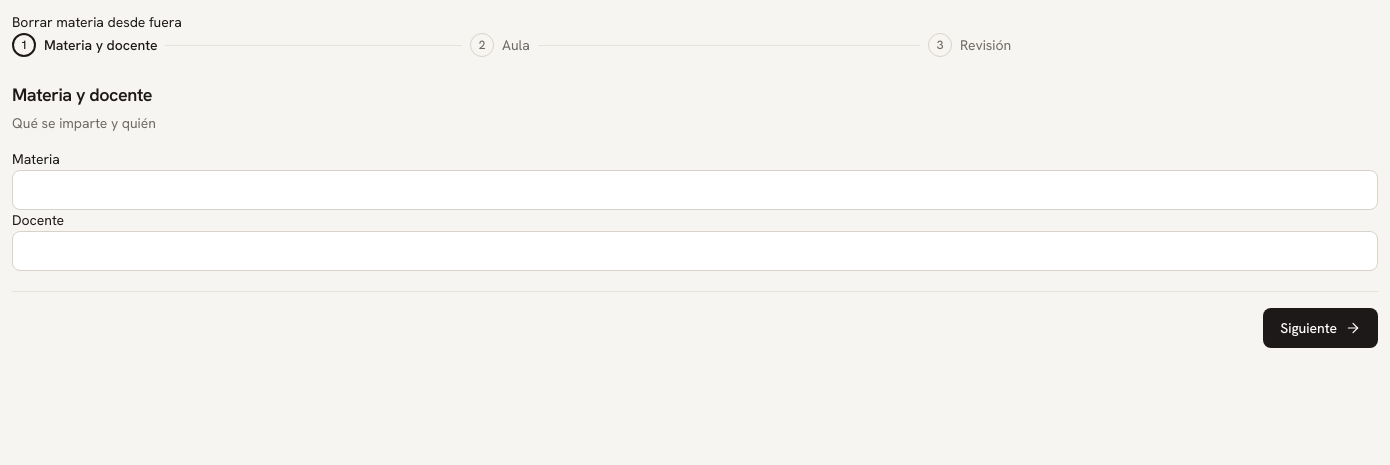
Test: Asistente · revisión y envío › «Volver a la revisión» también valida el paso que se está editando
Type "Álgebra" into the field labelled "Materia". click: coordinates (695, 190)
box: 12,170 -> 1378,210
Type "Ana" into the field labelled "Docente". click: coordinates (695, 251)
box: 12,231 -> 1378,271
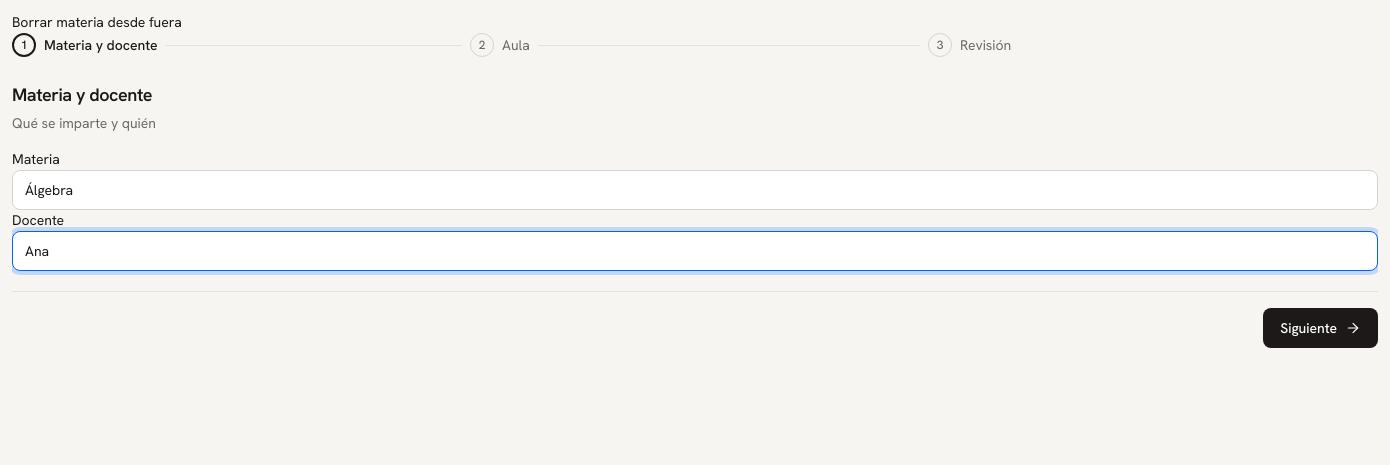
Click the button "Siguiente". click: coordinates (1321, 328)
box: 1263,308 -> 1378,348
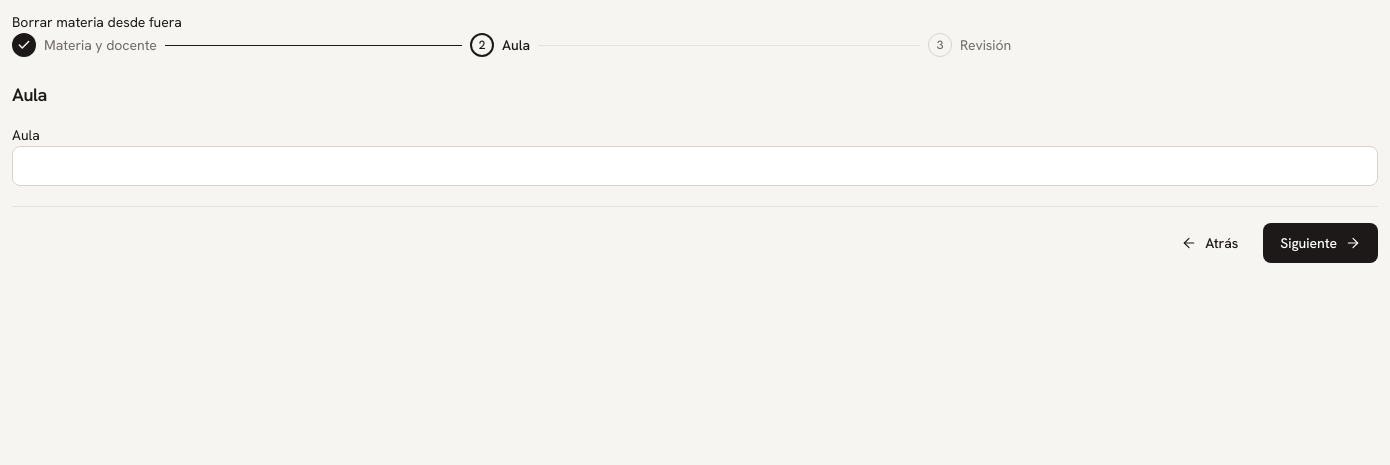
Type "A-12" into the field labelled "Aula". click: coordinates (695, 166)
box: 12,146 -> 1378,186
Click the button "Siguiente". click: coordinates (1321, 243)
box: 1263,223 -> 1378,263
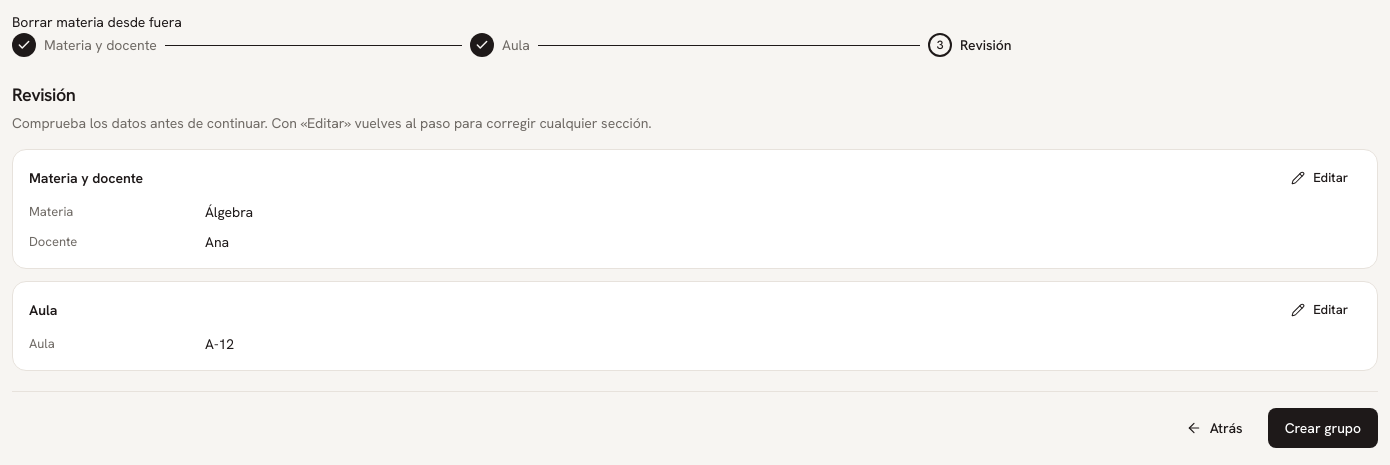
Click the button with aria-label "Editar Materia y docente". click: coordinates (1320, 178)
box: 1278,162 -> 1361,194
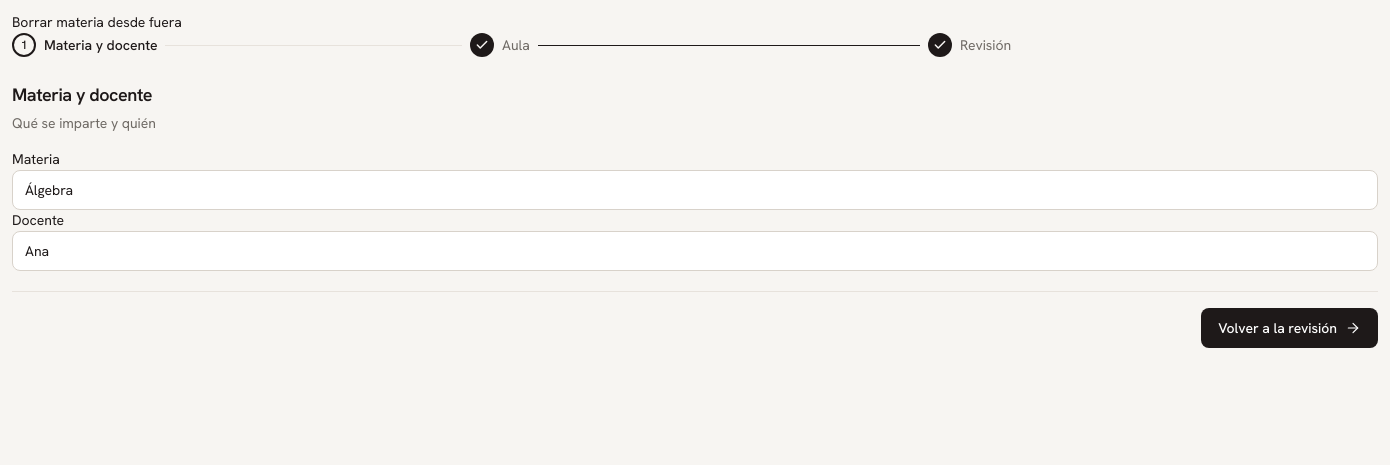
Clear the field labelled "Materia". click: coordinates (695, 190)
box: 12,170 -> 1378,210
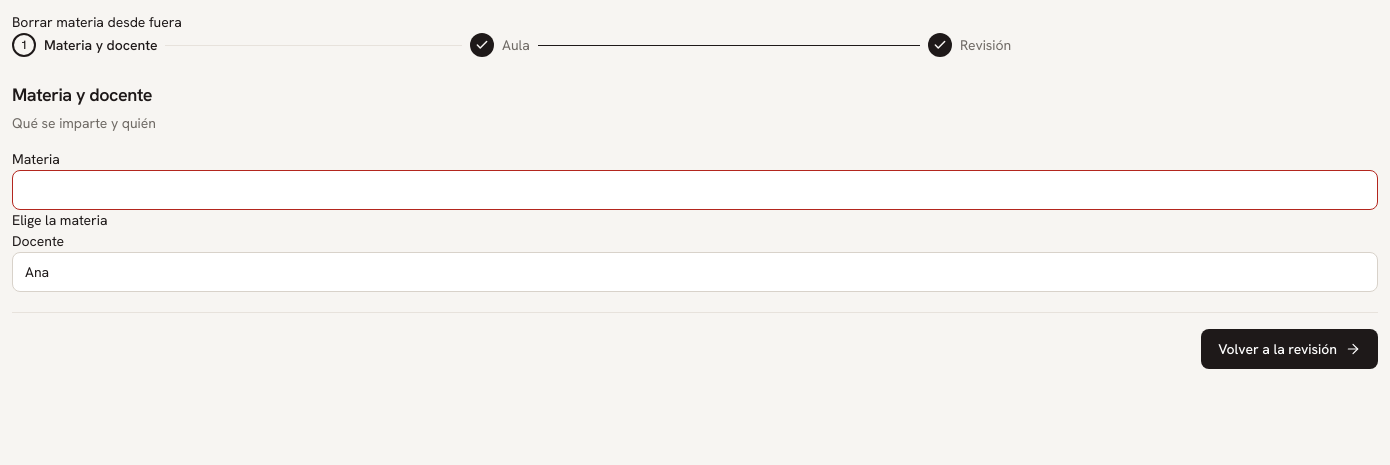
Click the button "Volver a la revisión". click: coordinates (1290, 349)
box: 1201,329 -> 1378,369
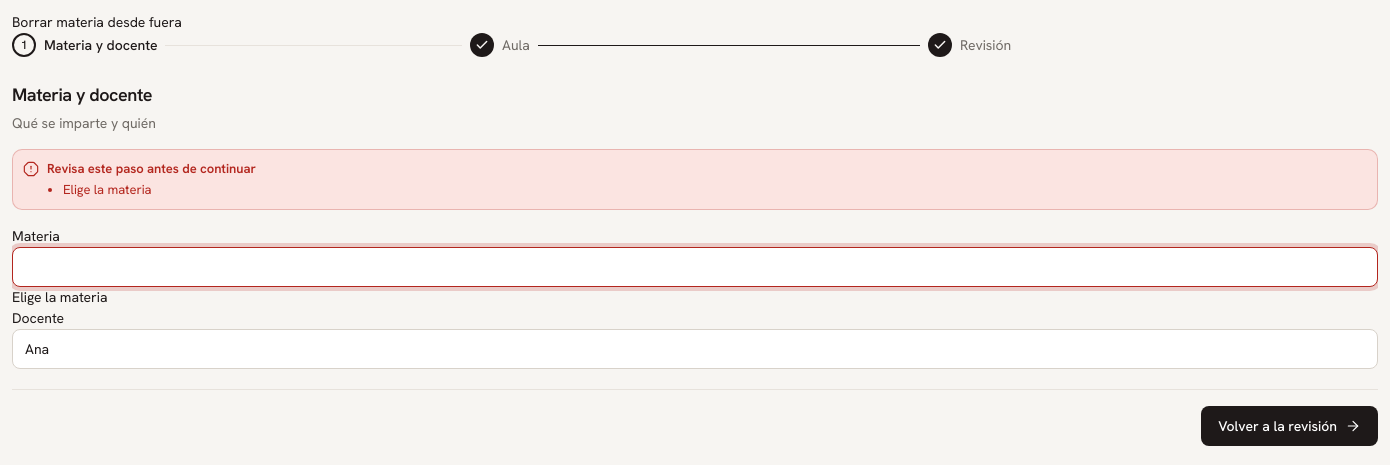
Result: the heading "Materia y docente" is shown at 12,83 -> 152,106
Result: the message shows "Elige la materia" at 63,181 -> 152,198
